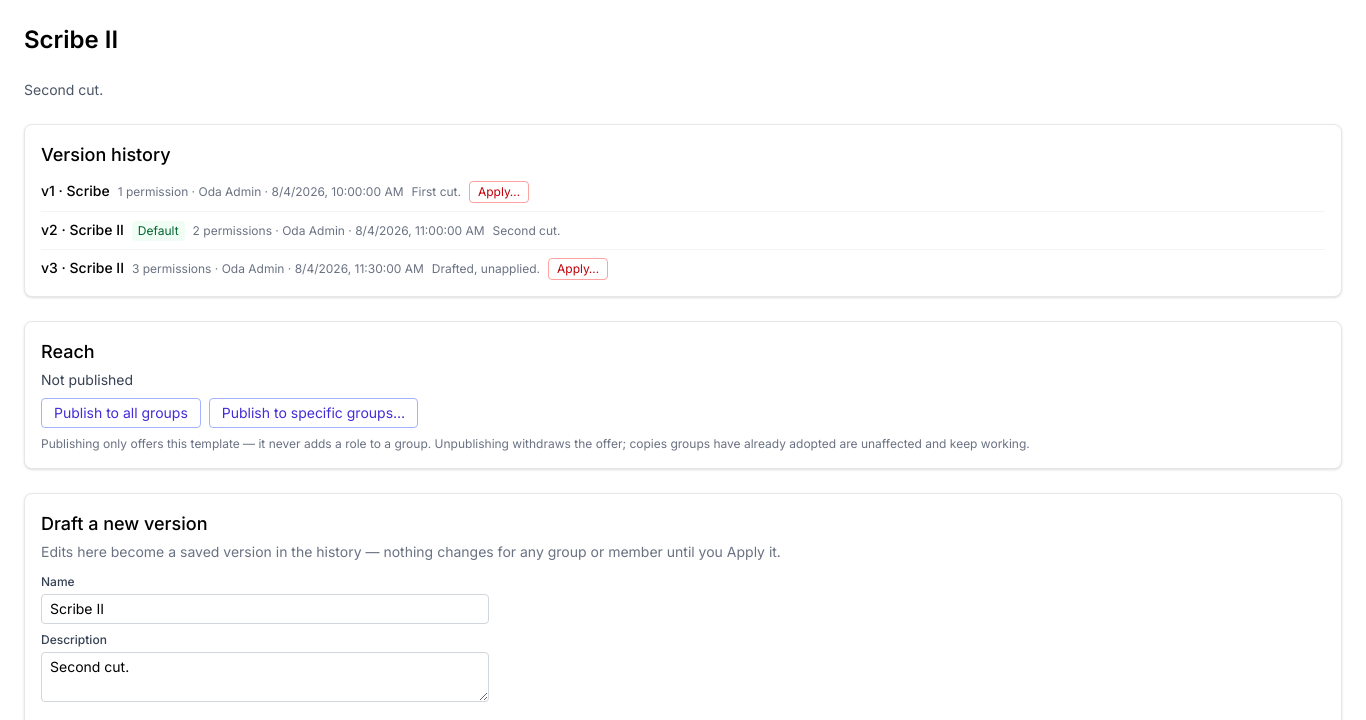
Test: AdminRoleTemplateDetail (FEAT-H040 STORY-2/3/4) › loaded detail, open ceremony, and refusal outcome states are axe-clean
Check: the list item with test id "version-row-1" is shown, box [41, 181, 529, 203]
Click the button with test id "apply-version-3" at (578,269), box [548, 258, 608, 280]
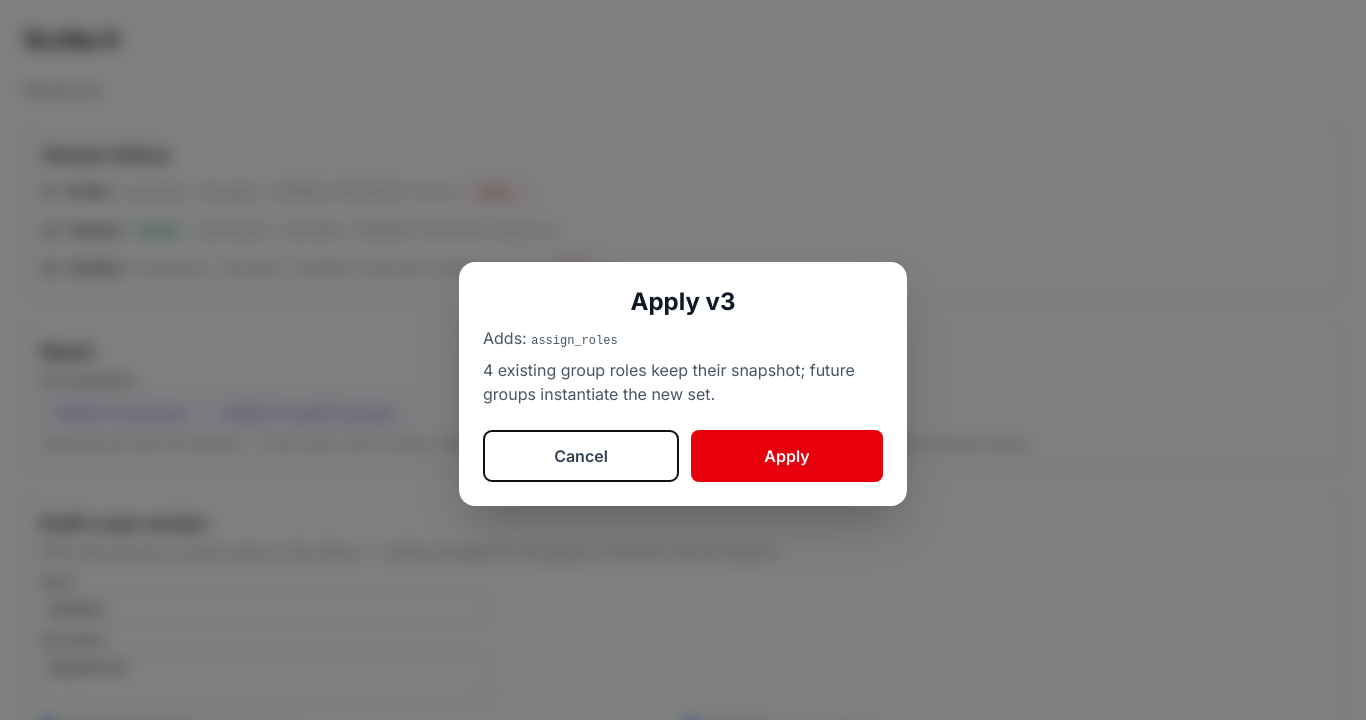
Click the button with test id "confirm-modal-confirm" at (787,456), box [691, 430, 883, 482]
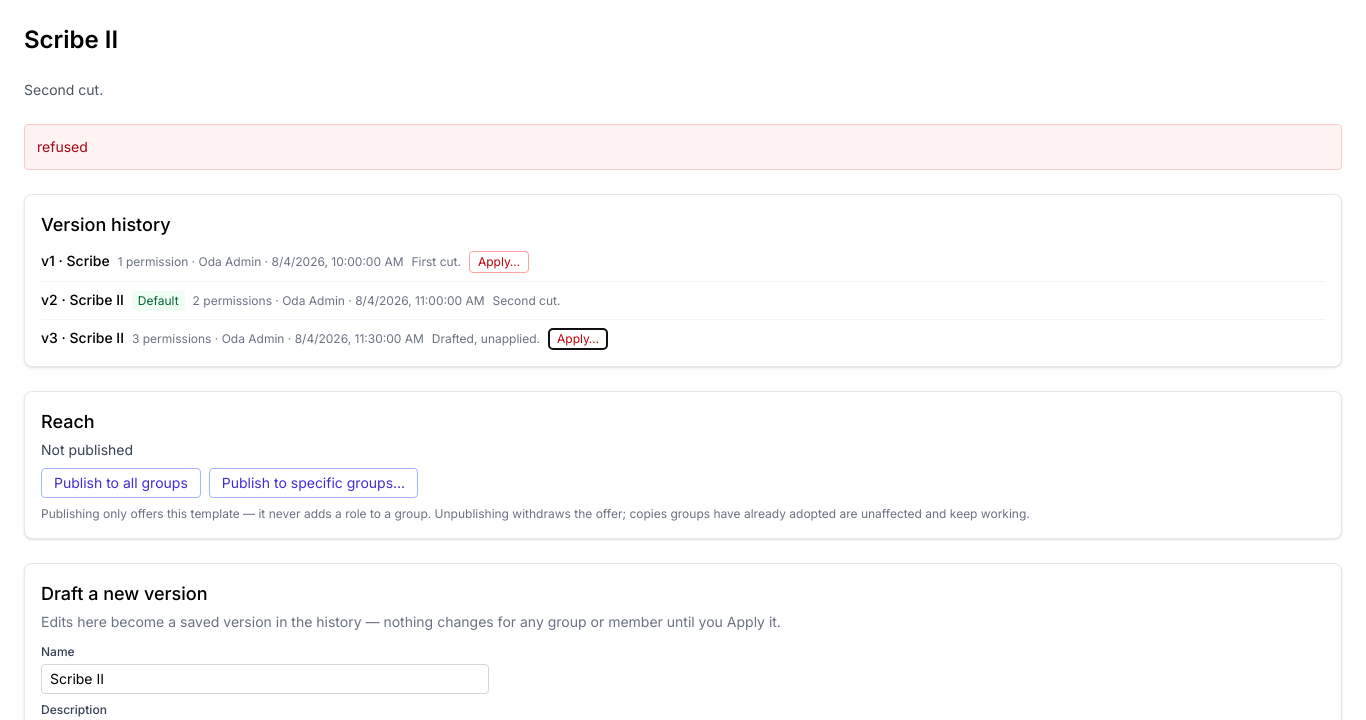
Check: the message "refused" is shown, box [24, 124, 1342, 170]
